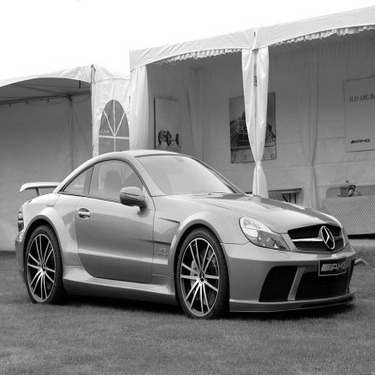car: (6, 145, 363, 318)
